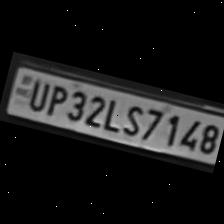1: (156, 108, 182, 148)
2: (80, 89, 107, 128)
3: (60, 83, 88, 122)
4: (174, 112, 203, 150)
7: (136, 102, 164, 143)
8: (194, 118, 222, 156)
L: (98, 93, 124, 132)
P: (41, 80, 68, 118)
S: (116, 98, 146, 138)
U: (21, 74, 50, 112)
